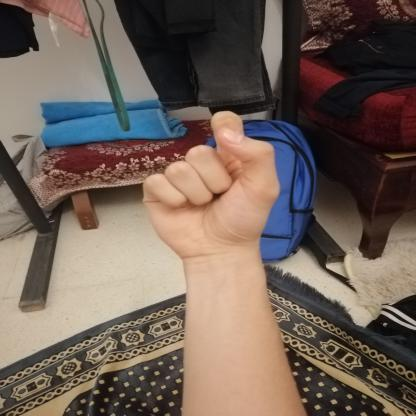FAA: (130, 104, 292, 264)
